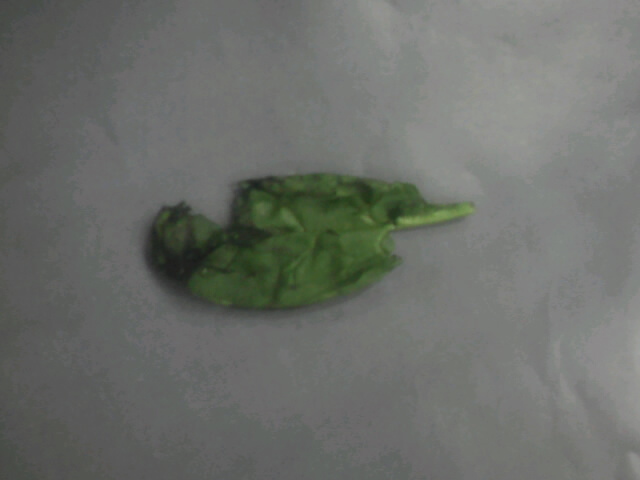yellow: (140, 155, 487, 343)
